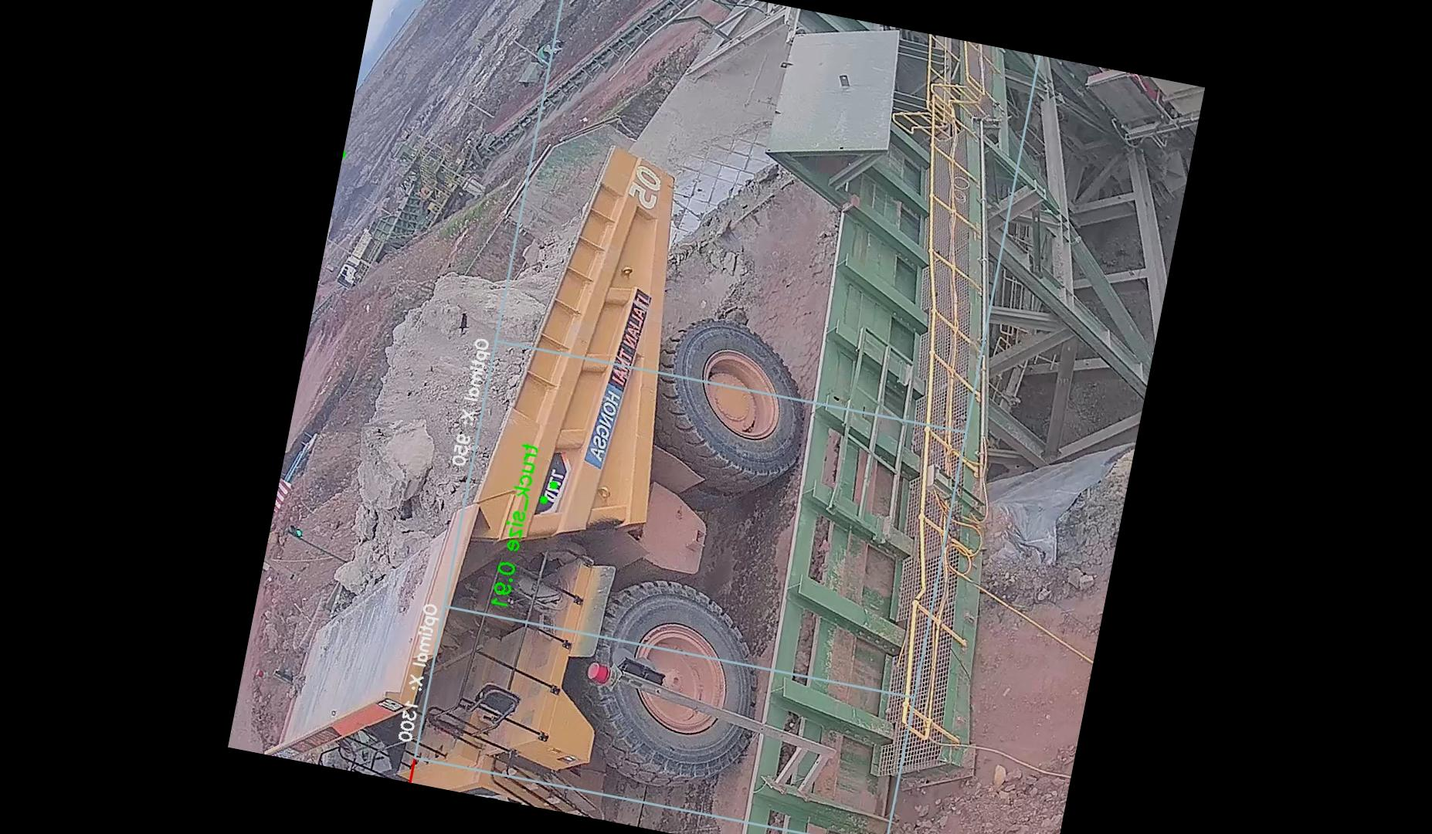company: (577, 276, 657, 476)
full_load: (327, 248, 551, 573)
mining_truck: (266, 85, 844, 834)
tail_number: (616, 153, 679, 222)
truck_size: (531, 439, 573, 527)
